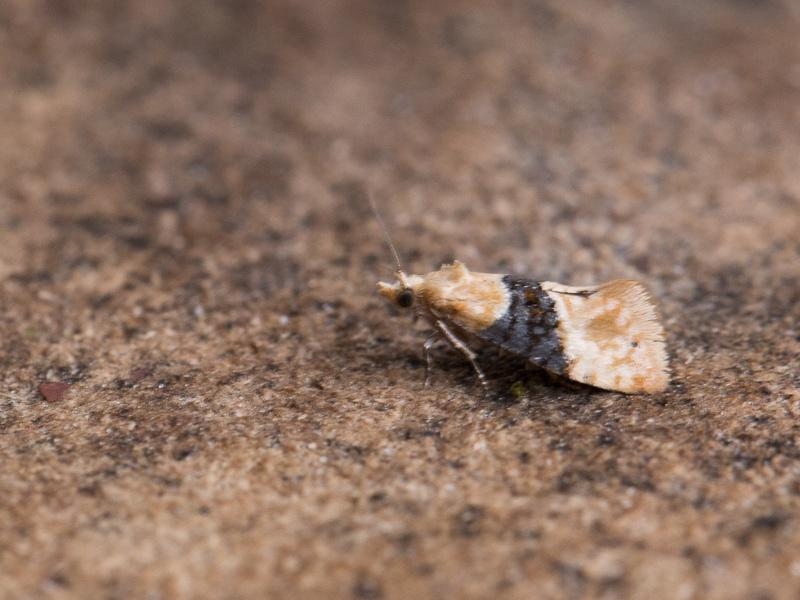Eupoecilia Ambiguella: (360, 183, 675, 403)
